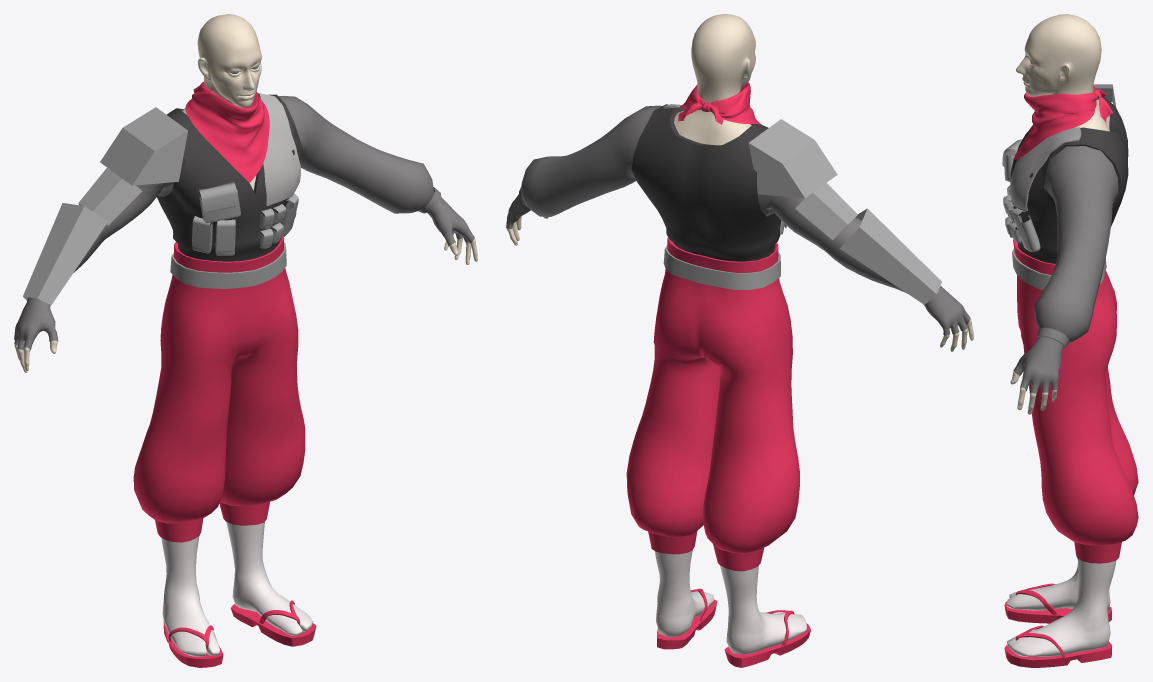
File: Samurai_Test_0726.fbx
3 views of the same model, side by side, from view 1: azimuth 30°, elevation 25°; view 2: azimuth 150°, elevation 25°; view 3: azimuth 270°, elevation 25° (orthographic).
Parts seen in each view (by area): view 1: Samurai; view 2: Samurai; view 3: Samurai.
Part boxes in pixels (x1=…): Samurai: x1=14, y1=14, x2=477, y2=667; Samurai: x1=506, y1=14, x2=973, y2=667; Samurai: x1=1002, y1=14, x2=1138, y2=667.
Bounding box in the file's own units: 219 × 286 × 56.83.
